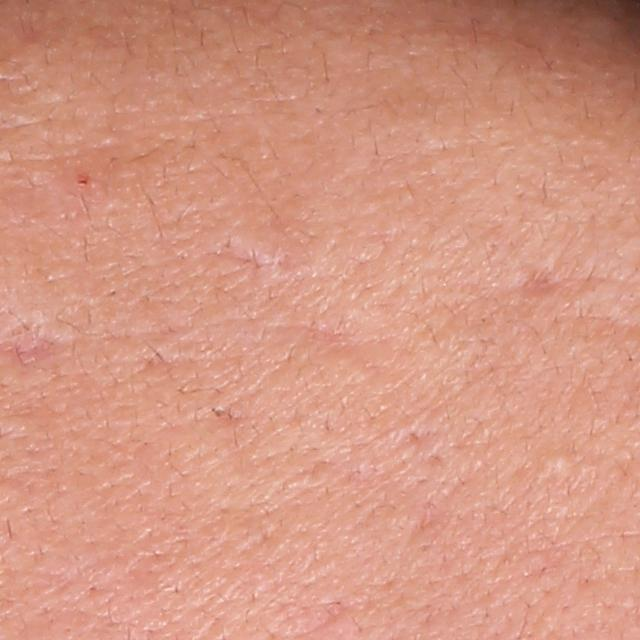comedo: (543, 449, 577, 478)
